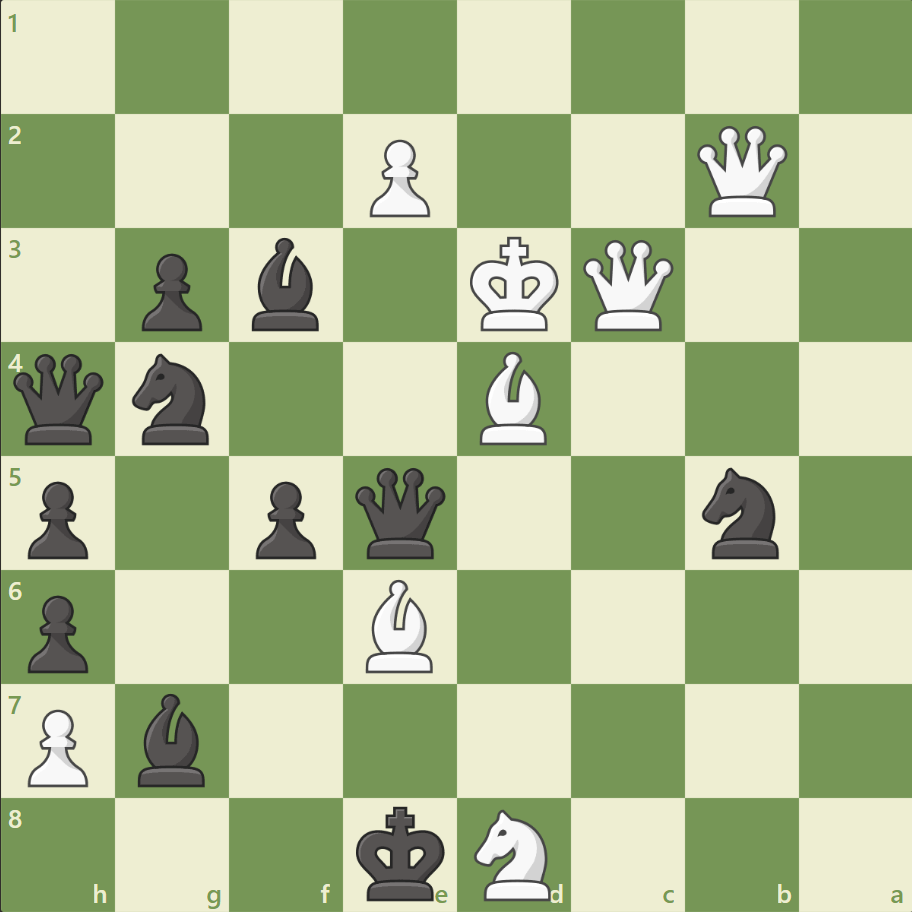B: (358, 574, 442, 676), (471, 347, 555, 449)
K: (465, 231, 565, 339)
N: (465, 802, 562, 904)
P: (20, 700, 95, 791), (361, 132, 435, 223)
Q: (691, 122, 790, 222), (578, 236, 677, 335)
b: (131, 687, 215, 790), (244, 233, 328, 336)
k: (351, 798, 451, 906)
n: (124, 348, 222, 450), (692, 461, 789, 564)
p: (20, 586, 95, 677), (247, 473, 322, 564), (20, 473, 95, 564), (133, 246, 208, 337)
q: (10, 349, 109, 449), (351, 463, 450, 562)
